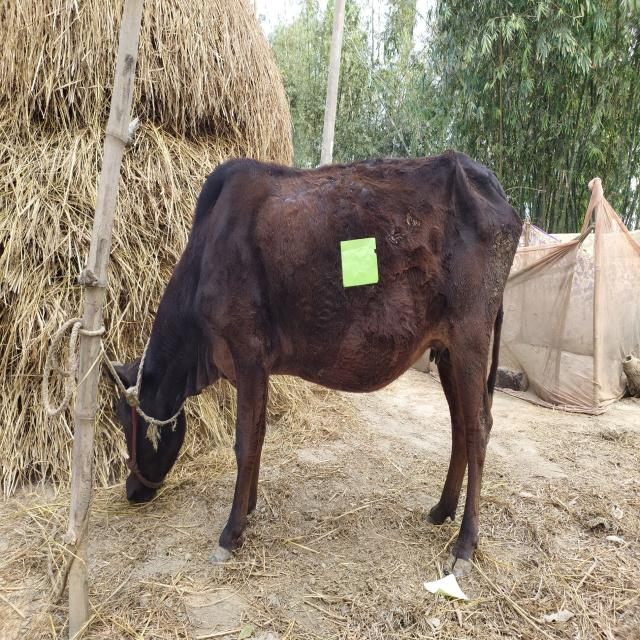badan_sapi: (214, 154, 503, 396)
sapi: (103, 138, 526, 568)
